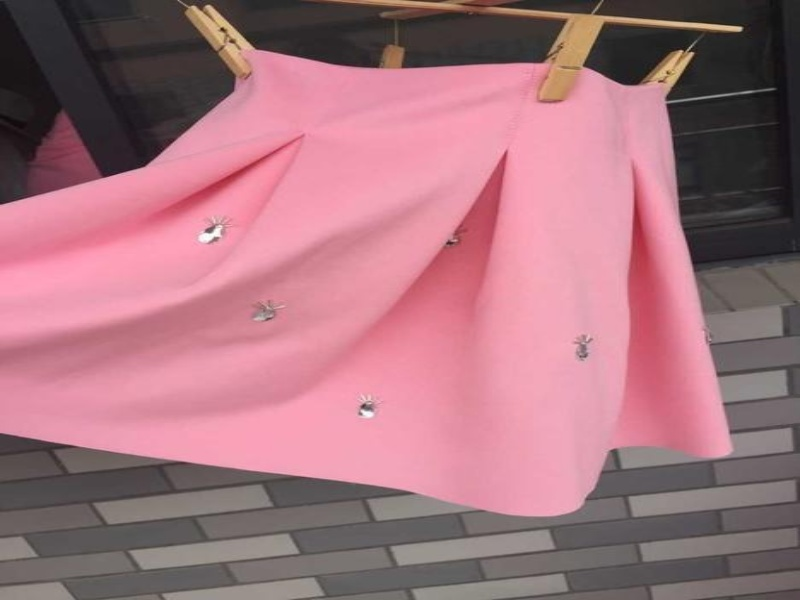skirt: (0, 50, 733, 520)
